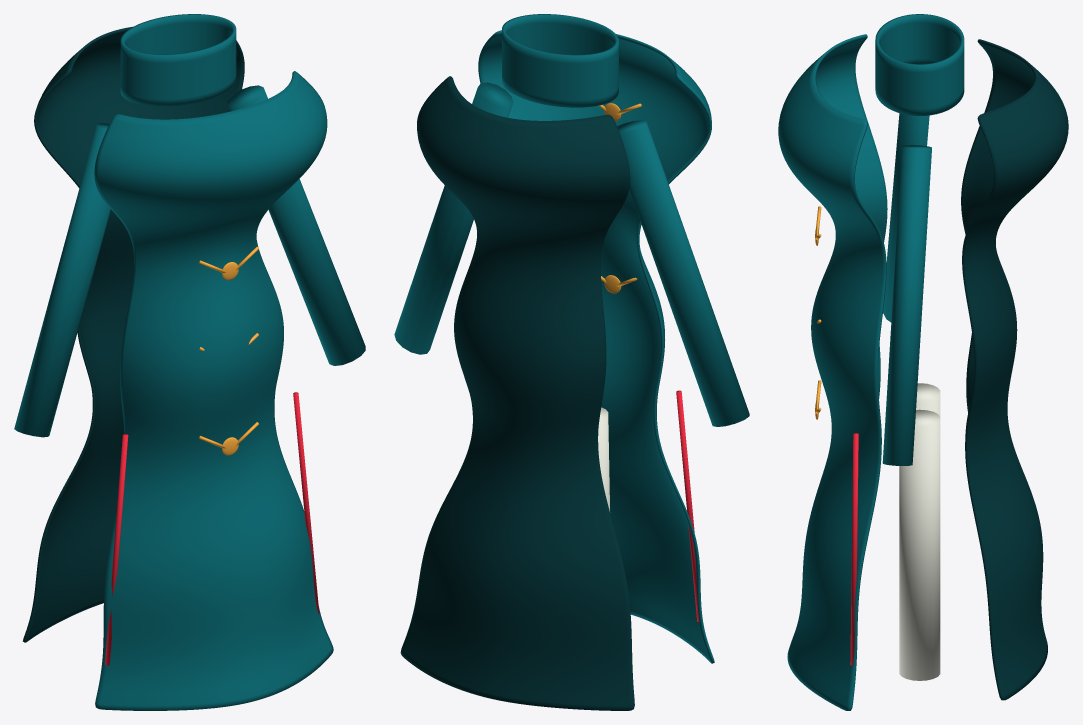
File: BL_AODAI_001.obj
3 views of the same model, side by side, from view 1: azimuth 30°, elevation 25°; view 2: azimuth 150°, elevation 25°; view 3: azimuth 270°, elevation 25° (orthographic).
Visible parts, largest first — view 1: front_ao_dai_panel, back_ao_dai_panel, silk_sleeve, structured_high_collar, silk_sleeve.001, side_slit_piping, side_slit_piping.002; view 2: back_ao_dai_panel, front_ao_dai_panel, silk_sleeve, structured_high_collar, silk_sleeve.001, side_slit_piping, ivory_trouser_leg; view 3: front_ao_dai_panel, back_ao_dai_panel, ivory_trouser_leg.001, silk_sleeve.001, structured_high_collar, silk_sleeve, side_slit_piping.002, ivory_trouser_leg.
Part boxes in pixels (x1,y1,x2,y2): front_ao_dai_panel: (94, 71, 333, 710); back_ao_dai_panel: (22, 26, 244, 642); silk_sleeve: (14, 123, 110, 437); structured_high_collar: (120, 14, 236, 106); silk_sleeve.001: (227, 85, 365, 365); side_slit_piping: (105, 434, 128, 665); side_slit_piping.002: (293, 392, 319, 613); back_ao_dai_panel: (400, 76, 634, 710); front_ao_dai_panel: (478, 30, 714, 663); silk_sleeve: (617, 120, 749, 426); structured_high_collar: (502, 14, 618, 107); silk_sleeve.001: (394, 82, 513, 354); side_slit_piping: (676, 390, 699, 622); ivory_trouser_leg: (598, 407, 610, 512); front_ao_dai_panel: (778, 34, 887, 710); back_ao_dai_panel: (961, 39, 1068, 700); ivory_trouser_leg.001: (899, 409, 940, 680); silk_sleeve.001: (882, 145, 931, 465); structured_high_collar: (875, 14, 964, 115); silk_sleeve: (883, 113, 929, 322); side_slit_piping.002: (850, 433, 858, 665); ivory_trouser_leg: (916, 383, 940, 415).
Bounding box in the file's own units: 1.44 × 2.45 × 1.04.
